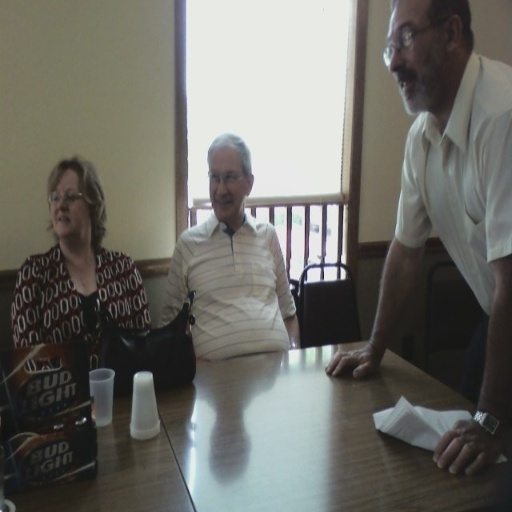hand: (440, 425, 486, 486), (323, 348, 380, 380)
